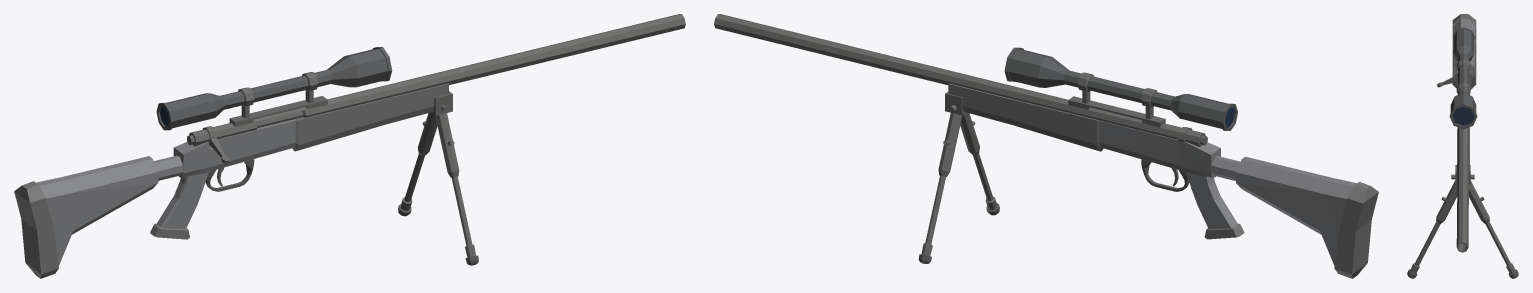
File: w_sniper.glb
The picture shows the model from 3 angles, left to right: view 1: azimuth 30°, elevation 25°; view 2: azimuth 150°, elevation 25°; view 3: azimuth 270°, elevation 25°; orthographic projection. The views are drawn at different scales.
Parts seen in each view (by area): view 1: hull; view 2: hull; view 3: hull.
Part boxes in pixels (<box>): hull: <box>14,14,685,278</box>; hull: <box>714,14,1378,278</box>; hull: <box>1407,14,1518,278</box>.
Bounding box in the file's own units: 1.2 × 0.3597 × 0.2363.
